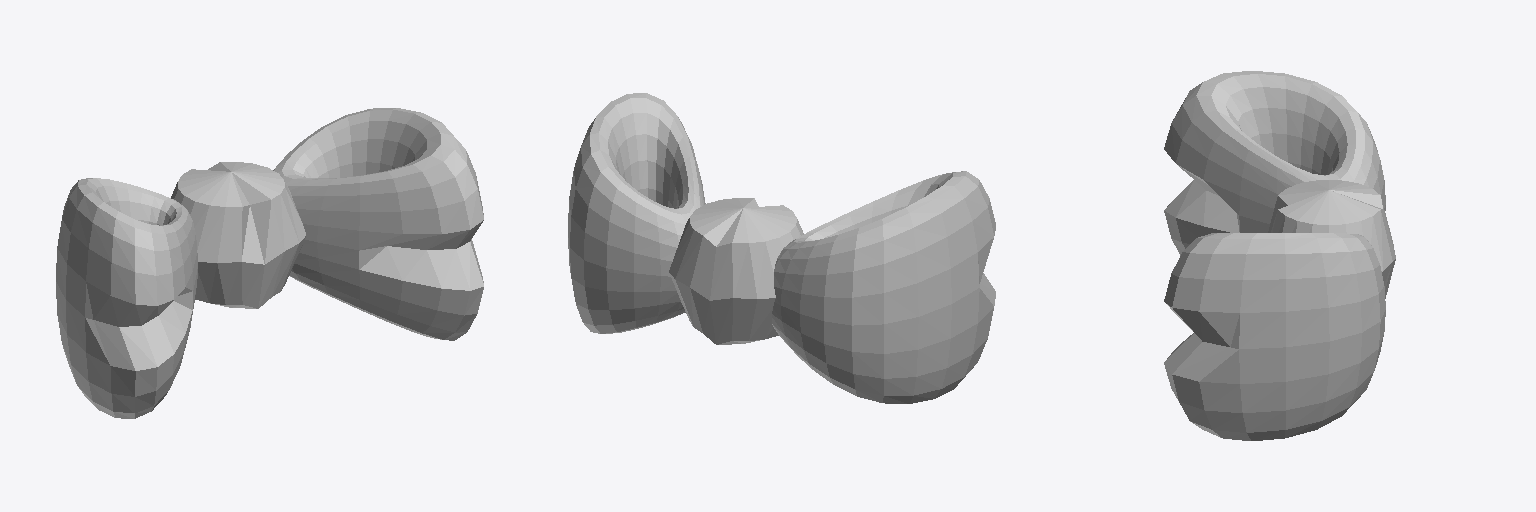
The model's file is Papillon.obj.
3 renders of one model, left to right at view 1: azimuth 30°, elevation 25°; view 2: azimuth 150°, elevation 25°; view 3: azimuth 270°, elevation 25°, orthographic.
Visible parts, largest first — view 1: Papillon pTorus3, pCylinder4 Papillon; view 2: Papillon pTorus3, pCylinder4 Papillon; view 3: Papillon pTorus3, pCylinder4 Papillon.
Boxes of the visible parts, x1,y1,x2,y2 form: Papillon pTorus3: [56, 108, 483, 418]; pCylinder4 Papillon: [171, 162, 305, 308]; Papillon pTorus3: [568, 93, 995, 403]; pCylinder4 Papillon: [669, 198, 803, 344]; Papillon pTorus3: [1164, 71, 1385, 440]; pCylinder4 Papillon: [1268, 180, 1395, 298].
Bounding box in the file's own units: 3.37 × 1.72 × 1.77.